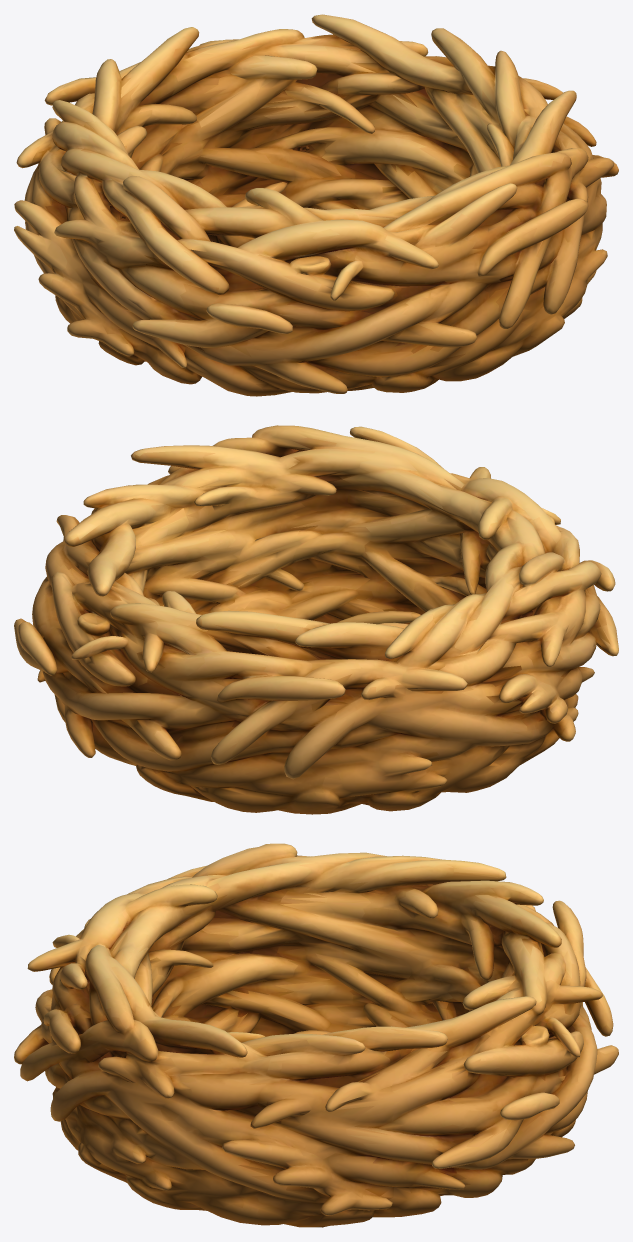
File: 08_nest.glb
The picture shows the model from 3 angles, top to bottom: view 1: azimuth 30°, elevation 25°; view 2: azimuth 150°, elevation 25°; view 3: azimuth 270°, elevation 25°; orthographic projection.
Visible parts, largest first — view 1: node_0; view 2: node_0; view 3: node_0.
Boxes of the visible parts, bbox=[...] form: node_0: bbox=[14, 14, 618, 396]; node_0: bbox=[14, 425, 618, 814]; node_0: bbox=[14, 843, 618, 1227].
Size of the model in its own units: 2.76 by 0.9992 by 2.77.
1 material, 1 textured.
